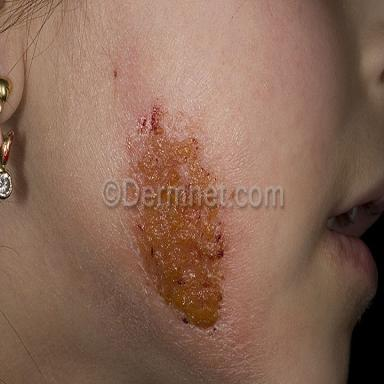Impetigo: (129, 205, 227, 337), (124, 105, 217, 191)
